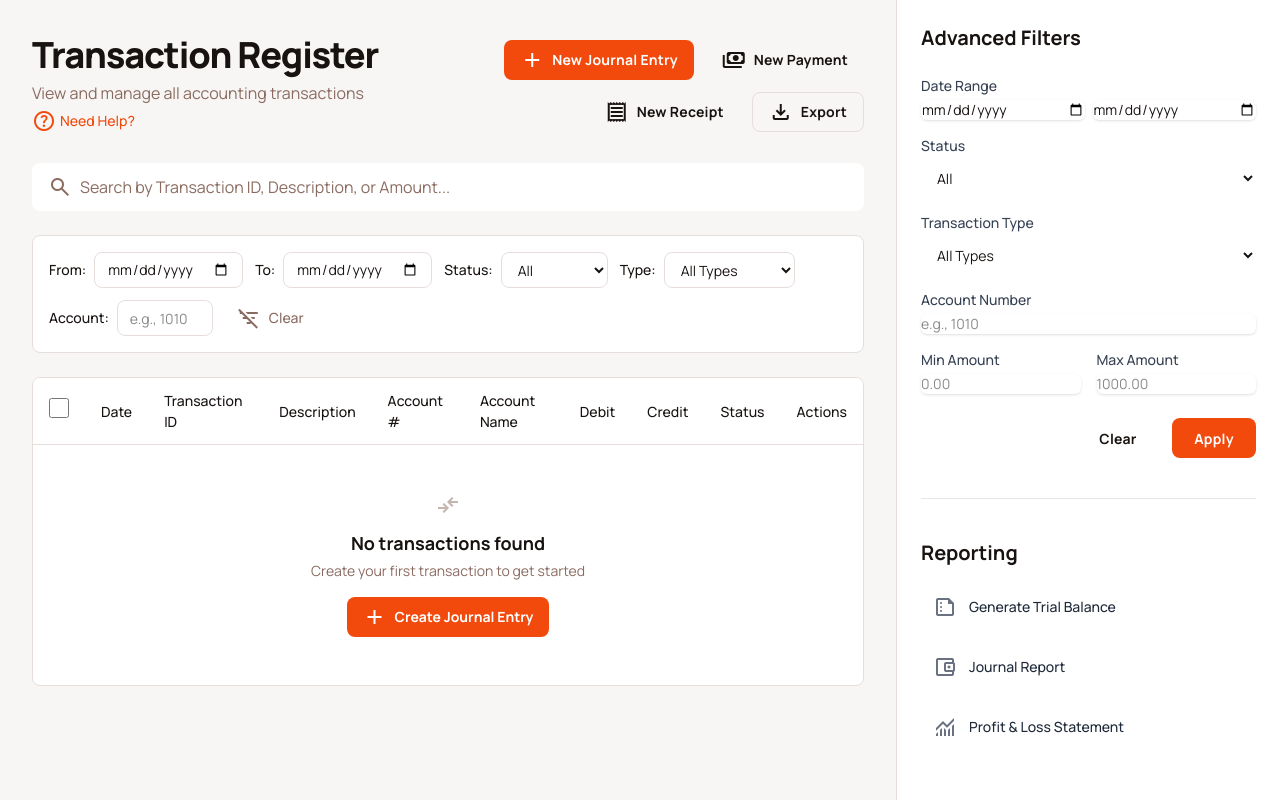
Test case: TransactionRegisterPage — Export feedback (SOUPFIN-19) › shows a warning toast when the current view is empty
This screenshot has width=1280, height=800.
Click the button with test id "export-button".
click(808, 112)  # box [752,92,864,132]
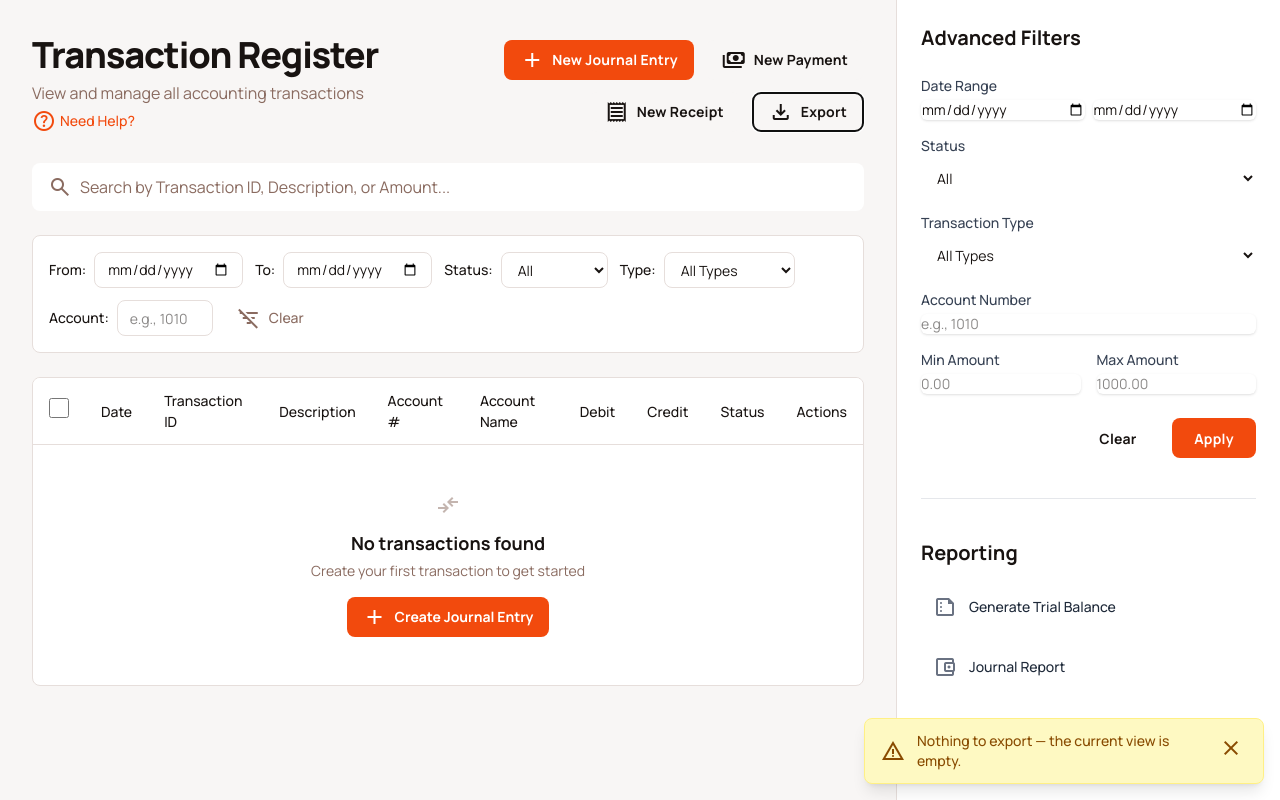
Result: the text "Nothing to export — the current view is empty." is shown at [917,731,1203,771]
